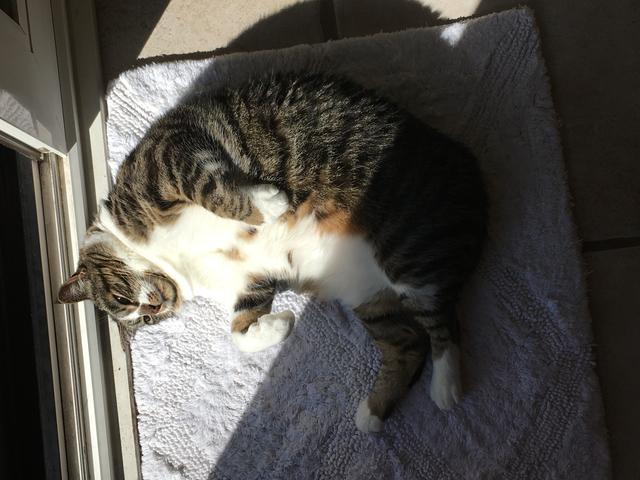playdoh: (47, 71, 487, 426)
